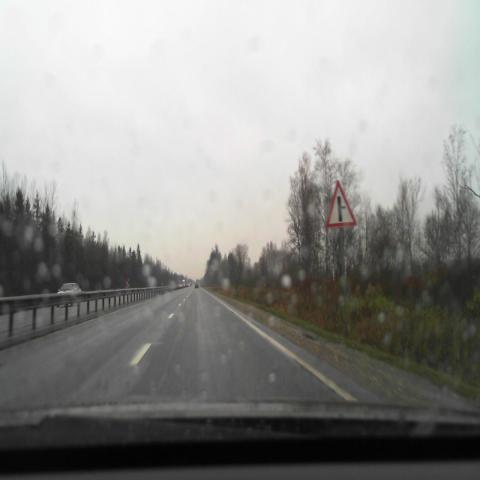2_3_2: (326, 180, 357, 227)
